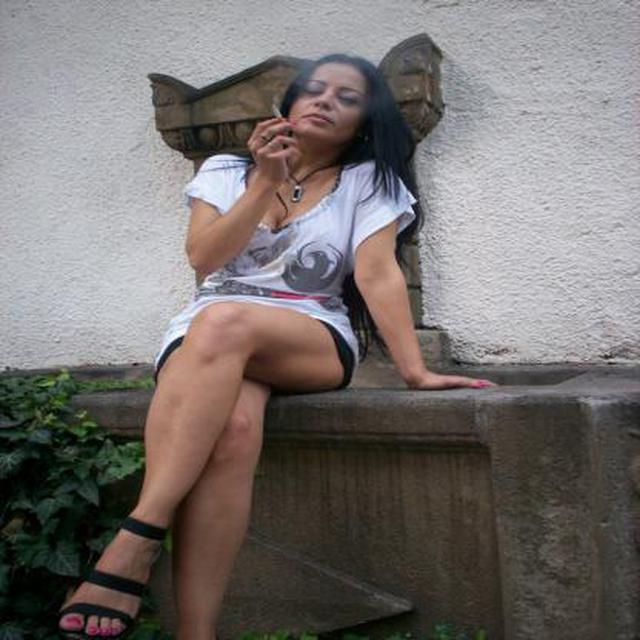smoking: (269, 101, 292, 131)
